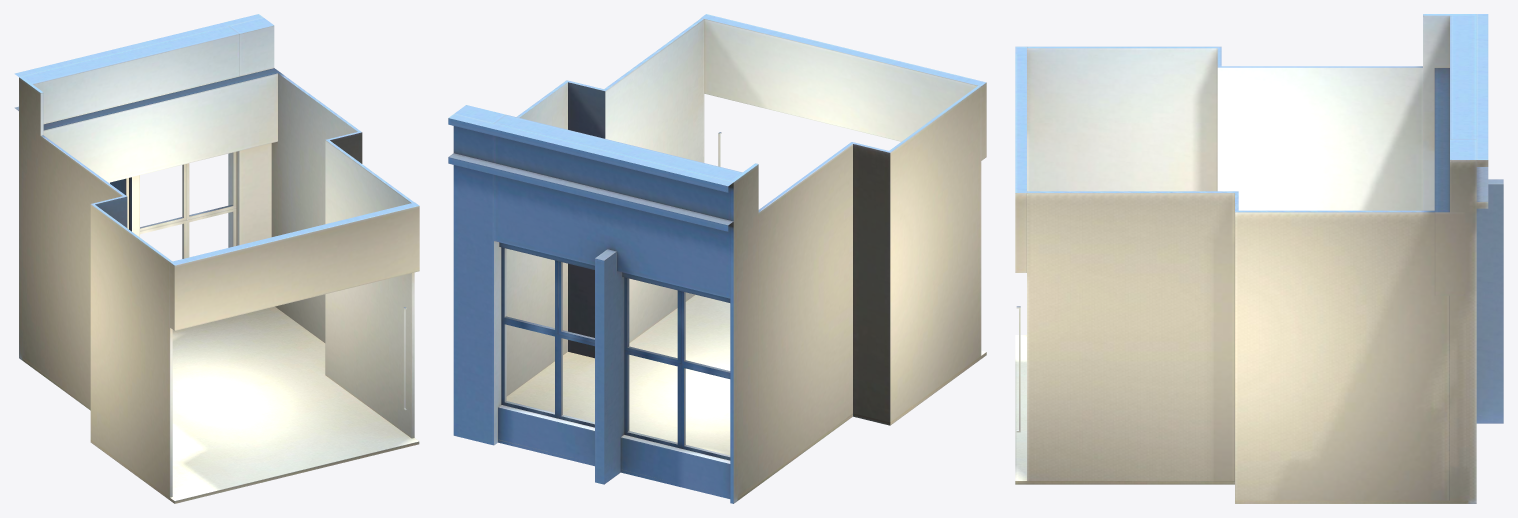
3 renders of one model, left to right at view 1: azimuth 30°, elevation 25°; view 2: azimuth 150°, elevation 25°; view 3: azimuth 270°, elevation 25°, orthographic. The views are drawn at different scales.
Parts seen in each view (by area): view 1: hc_2floor_room006_0; view 2: hc_2floor_room006_0; view 3: hc_2floor_room006_0.
Boxes of the visible parts, x1,y1,x2,y2 form: hc_2floor_room006_0: [14, 14, 419, 503]; hc_2floor_room006_0: [448, 14, 986, 503]; hc_2floor_room006_0: [1015, 14, 1503, 503].
Size of the model in its own units: 0.5105 by 0.4943 by 0.6361.
Materials: 1 (1 with a texture image).
